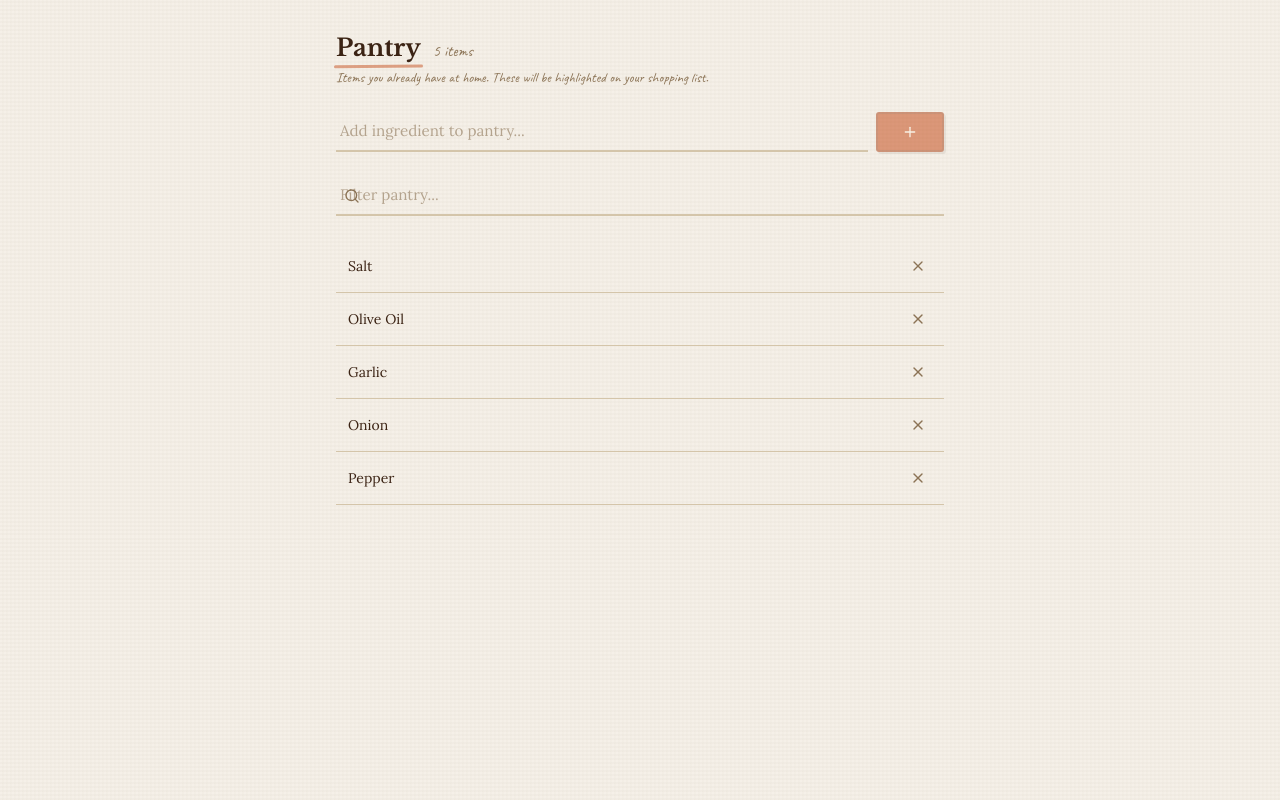
Pantry › P7: shows undo option after removing an item
Expected: the text "Salt" is shown, [348, 256, 372, 276]
# Find and click remove button for Salt
Click the button without text in the row of "Salt" at (918, 266), box [904, 252, 932, 280]
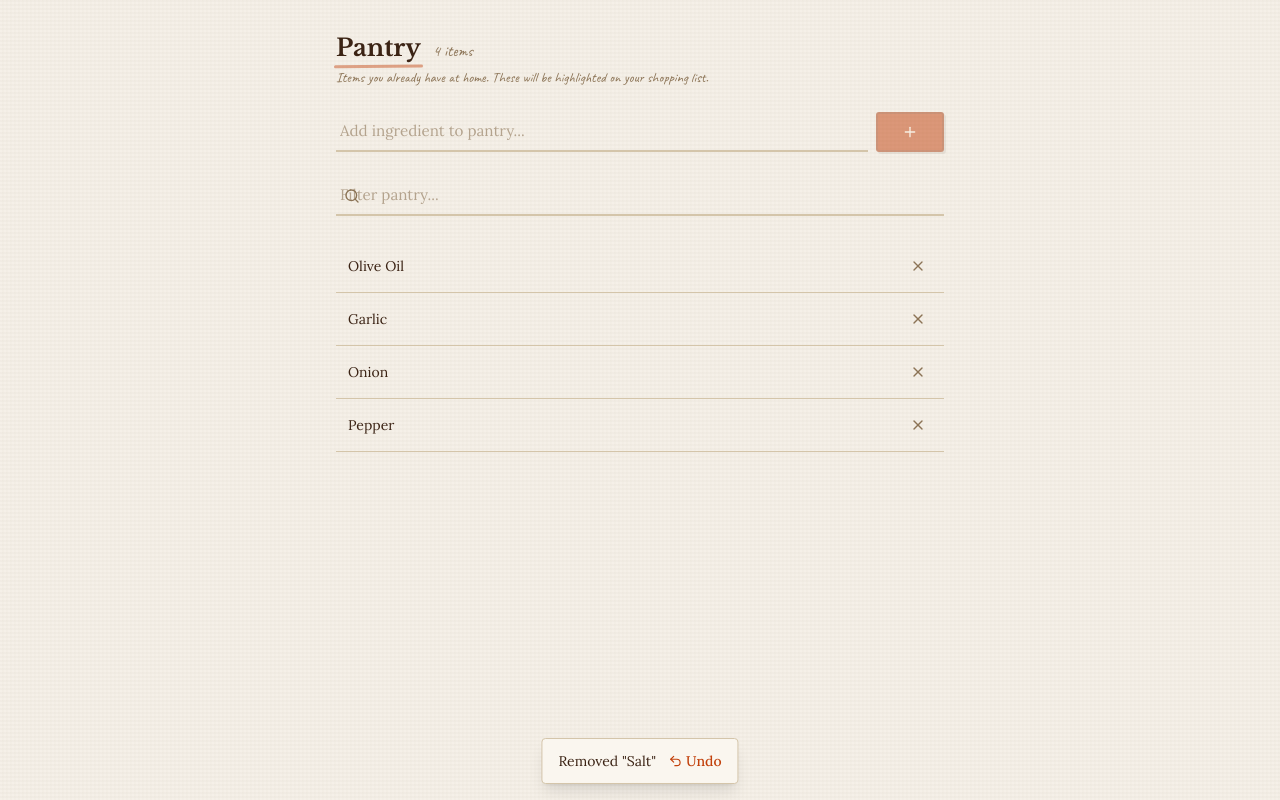
Expected: the button "Undo" is shown, [668, 751, 722, 771]
